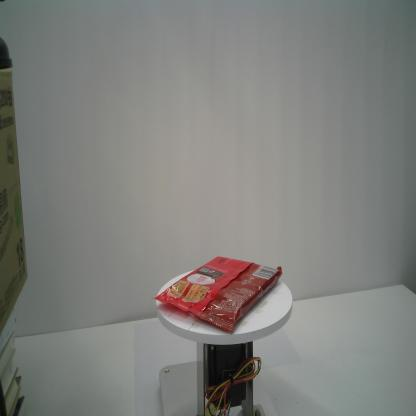Dessert: (151, 255, 283, 335)
